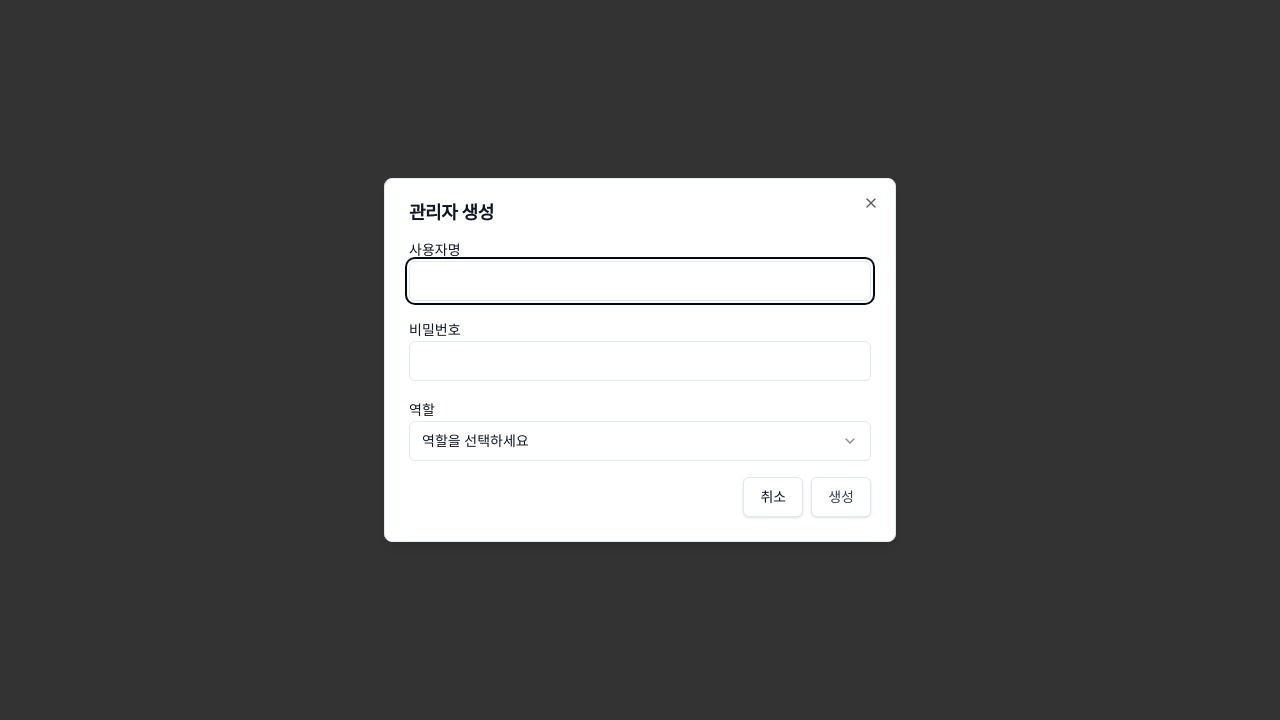
Scenario: CreateAdminDialog › REQ-020: password 8자 미만 시 에러를 표시한다
The width and height of the screenshot is (1280, 720).
In the field labelled "사용자명": {"x": 640, "y": 281} [409, 261, 871, 301], type "testuser"
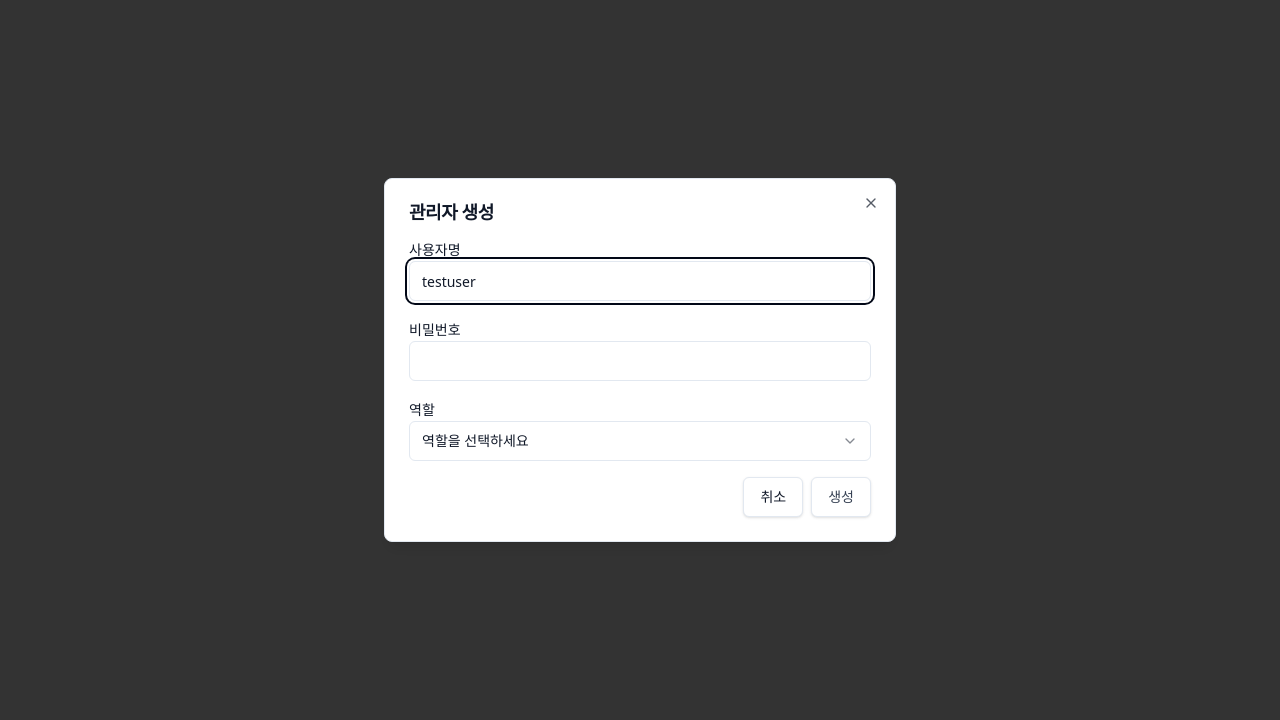
In the password field labelled "비밀번호": {"x": 640, "y": 361} [409, 341, 871, 381], type "short"
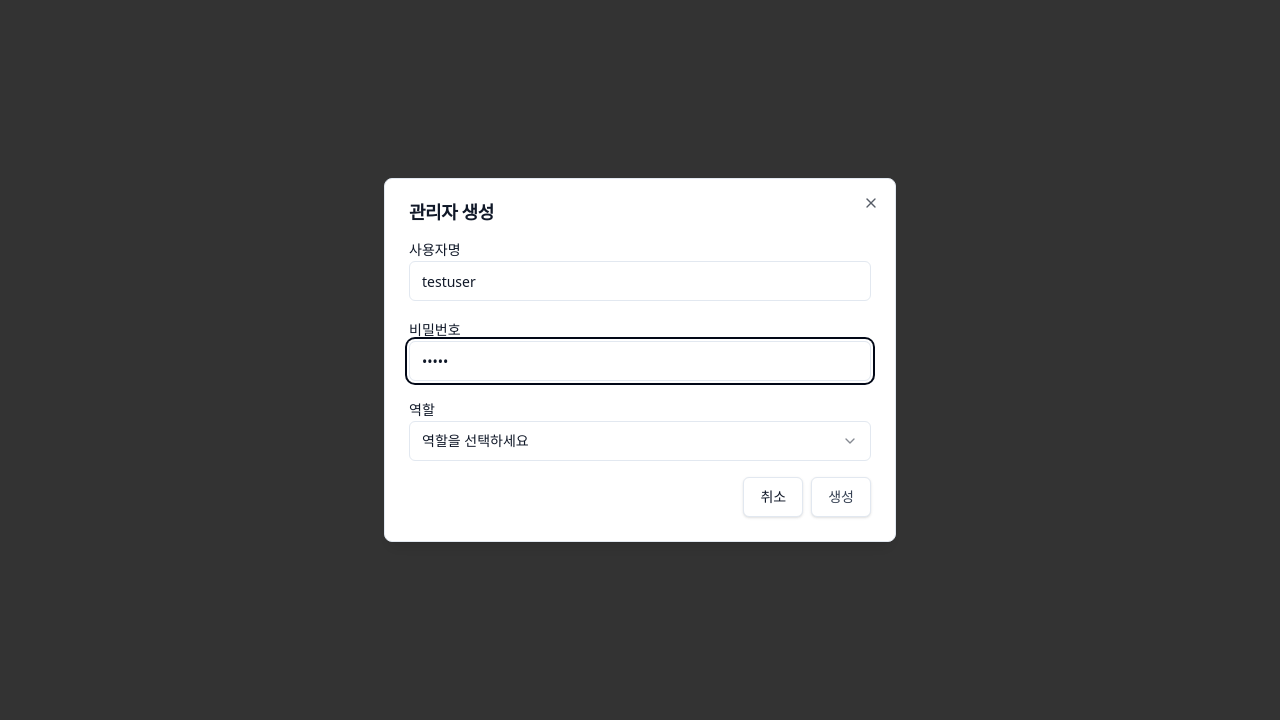
Click the button "생성": {"x": 841, "y": 497} [811, 477, 871, 517]
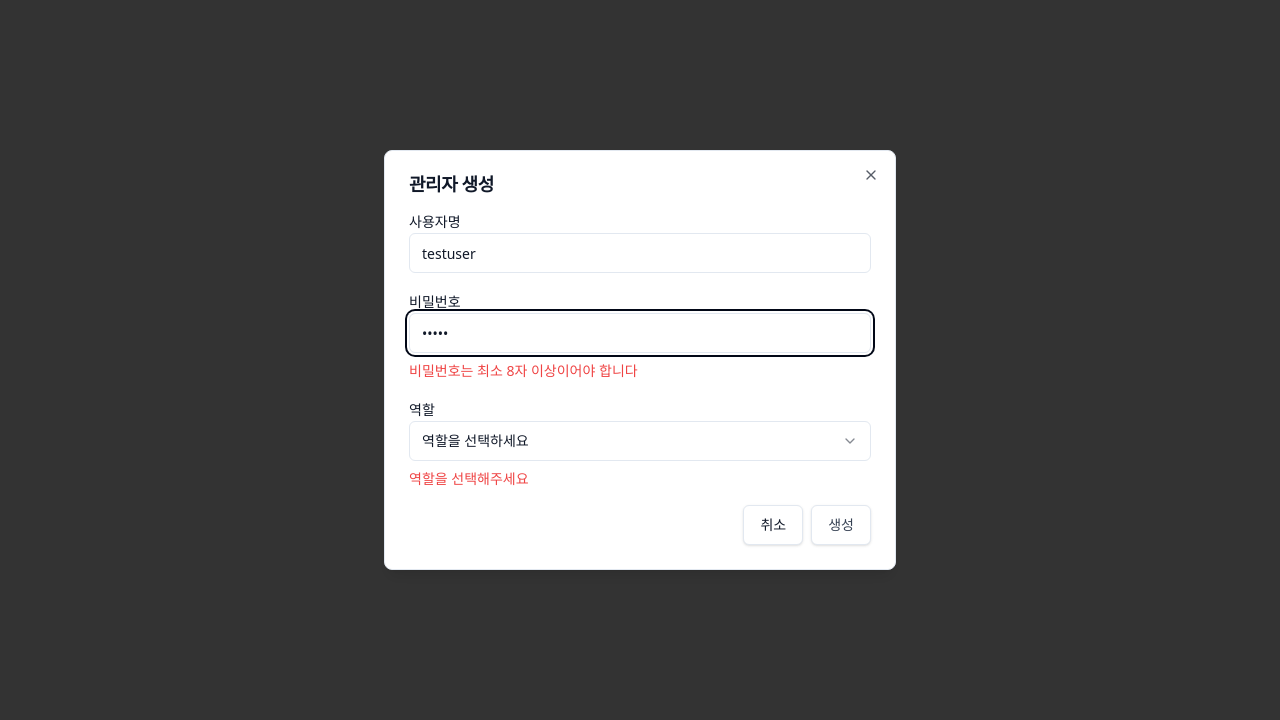
Expected: the text "비밀번호는 최소 8자 이상이어야 합니다" is shown, [409, 361, 638, 380]
